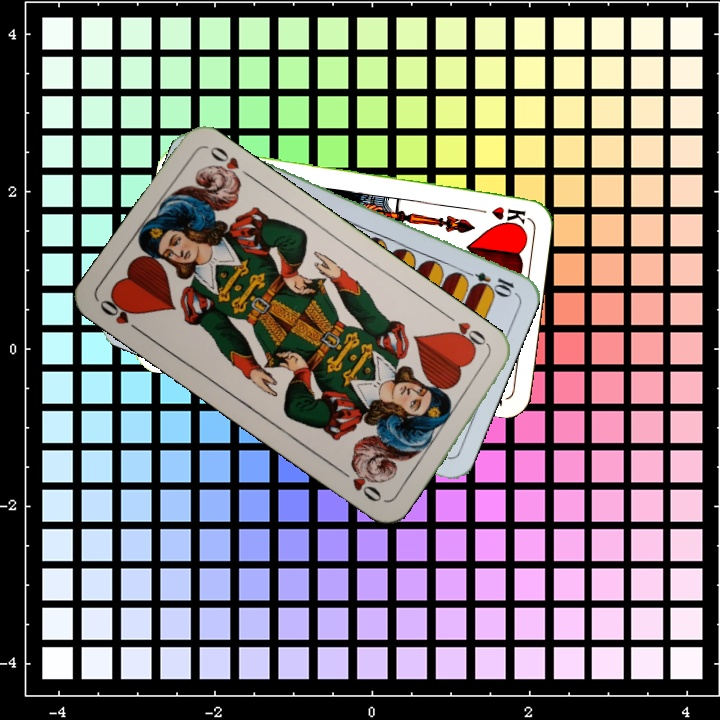E10: (459, 266, 517, 297)
HK: (469, 202, 528, 224)
HO: (95, 292, 147, 337), (442, 310, 493, 354)
